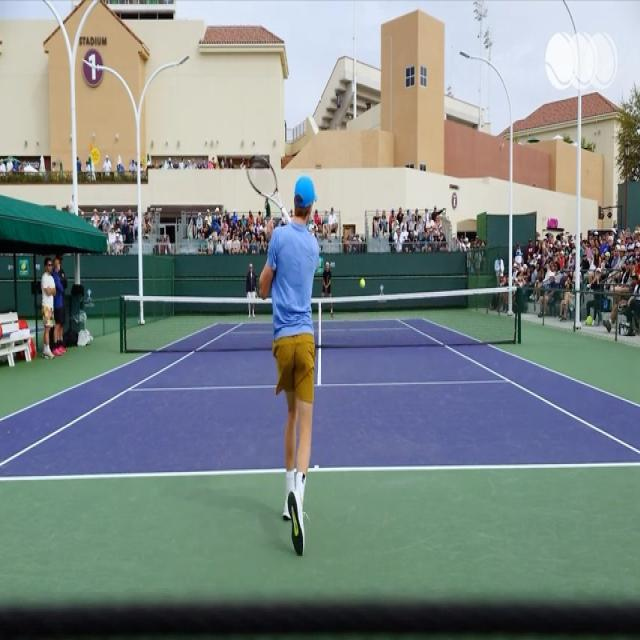forehand-finish: (248, 166, 328, 566)
